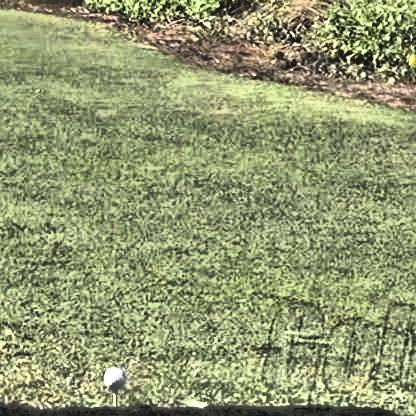golfball: (98, 362, 125, 387)
